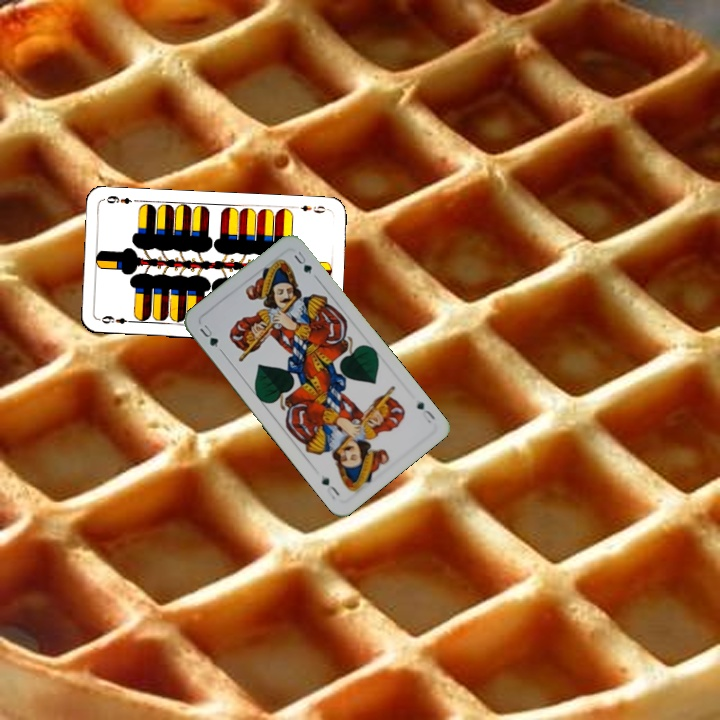E9: (290, 201, 330, 216), (98, 312, 136, 327)
GU: (195, 320, 221, 350), (413, 398, 438, 426)
